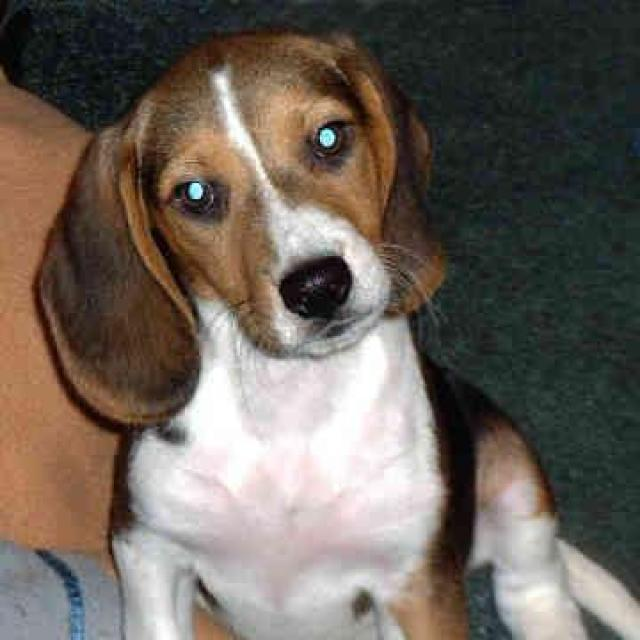beagle: (30, 27, 638, 638)
